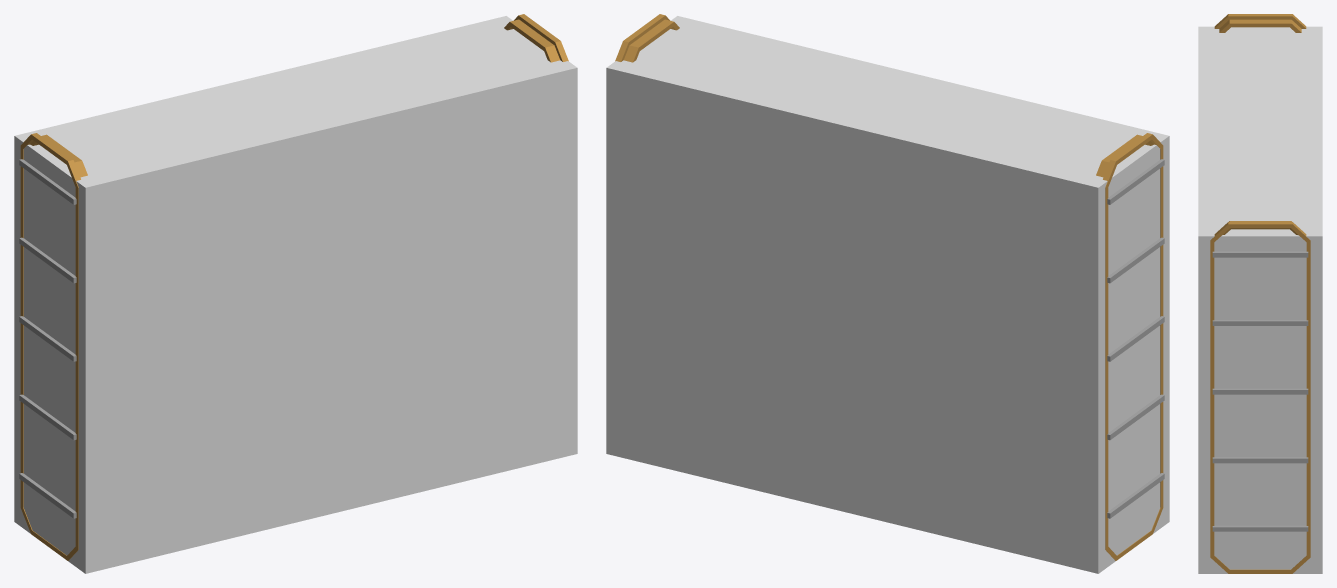
File: Shelf.gltf
3 renders of one model, left to right at view 1: azimuth 30°, elevation 25°; view 2: azimuth 150°, elevation 25°; view 3: azimuth 270°, elevation 25°, orthographic. The views are drawn at different scales.
Parts seen in each view (by area): view 1: COL01, Shelf; view 2: COL01, Shelf; view 3: COL01, Shelf.
Part boxes in pixels (left/top/right/bottom): COL01: left=14, top=16, right=577, bottom=573; Shelf: left=19, top=14, right=568, bottom=560; COL01: left=606, top=16, right=1169, bottom=573; Shelf: left=615, top=14, right=1164, bottom=560; COL01: left=1198, top=26, right=1322, bottom=573; Shelf: left=1210, top=14, right=1310, bottom=573.
Bounding box in the file's own units: 4.06 × 3.11 × 1.
